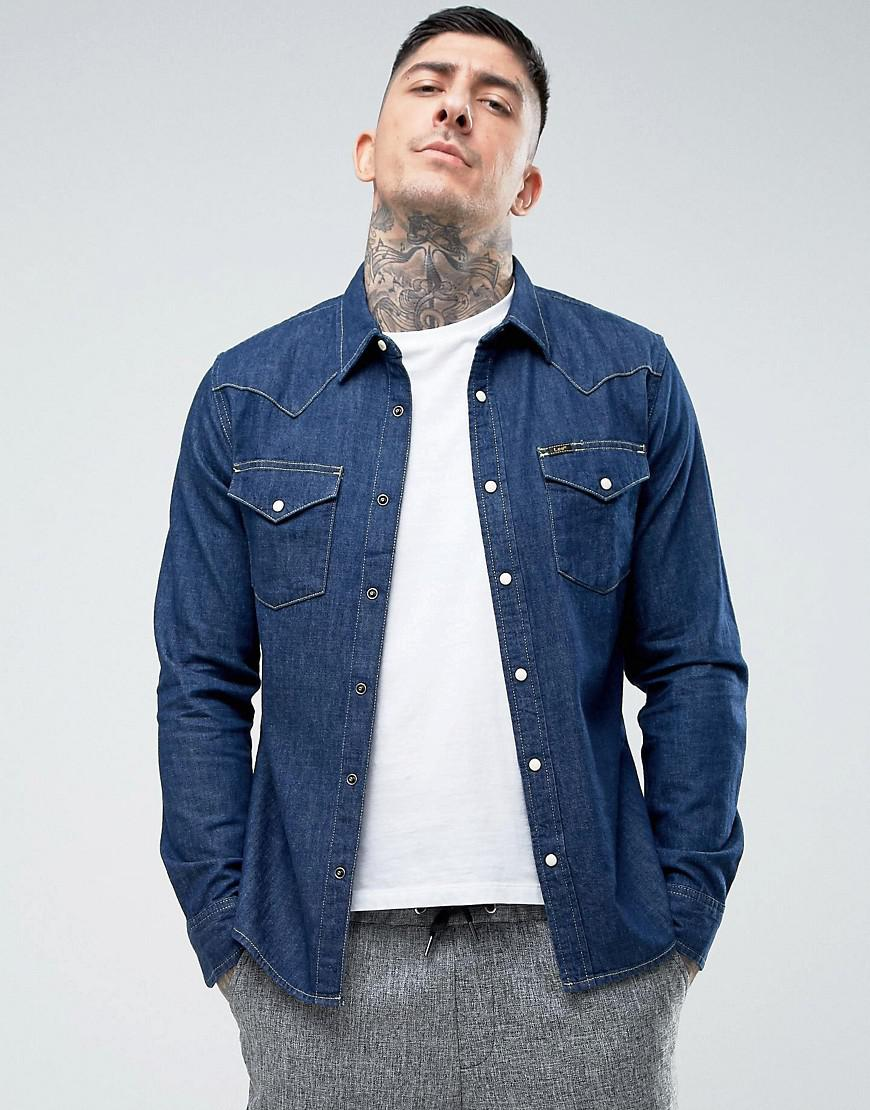teeshirt: (132, 281, 768, 973)
